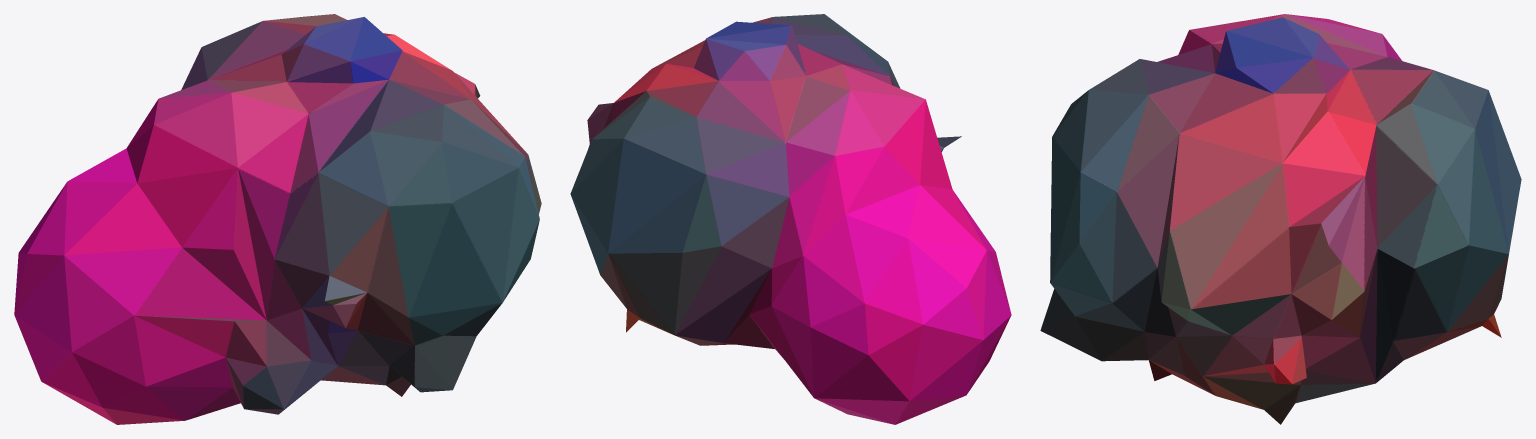
3 views of the same model, side by side, from view 1: azimuth 30°, elevation 25°; view 2: azimuth 150°, elevation 25°; view 3: azimuth 270°, elevation 25° (orthographic). The views are drawn at different scales.
Visible parts, largest first — view 1: Mesh_0; view 2: Mesh_0; view 3: Mesh_0.
Part boxes in pixels (<box>): Mesh_0: <box>14,14,541,424</box>; Mesh_0: <box>570,14,1011,424</box>; Mesh_0: <box>1040,14,1521,424</box>.
Bounding box in the file's own units: 188 × 144 × 158.
1 material, 1 textured.
